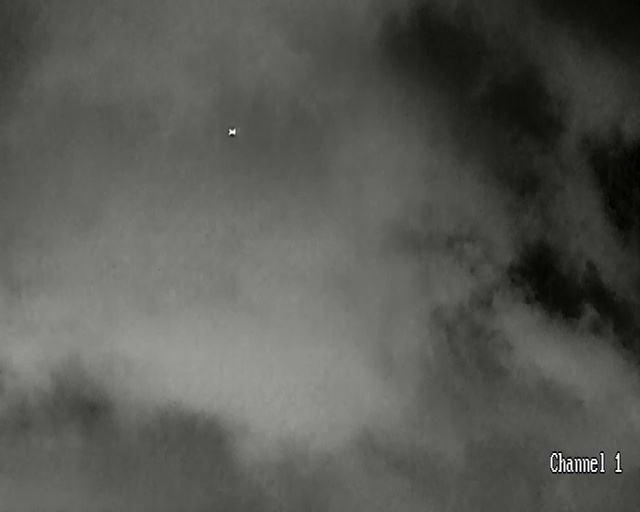uav: (227, 127, 237, 135)
